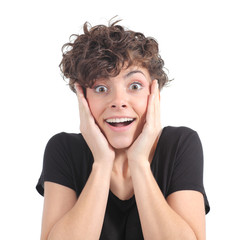teen: (64, 30, 171, 152)
